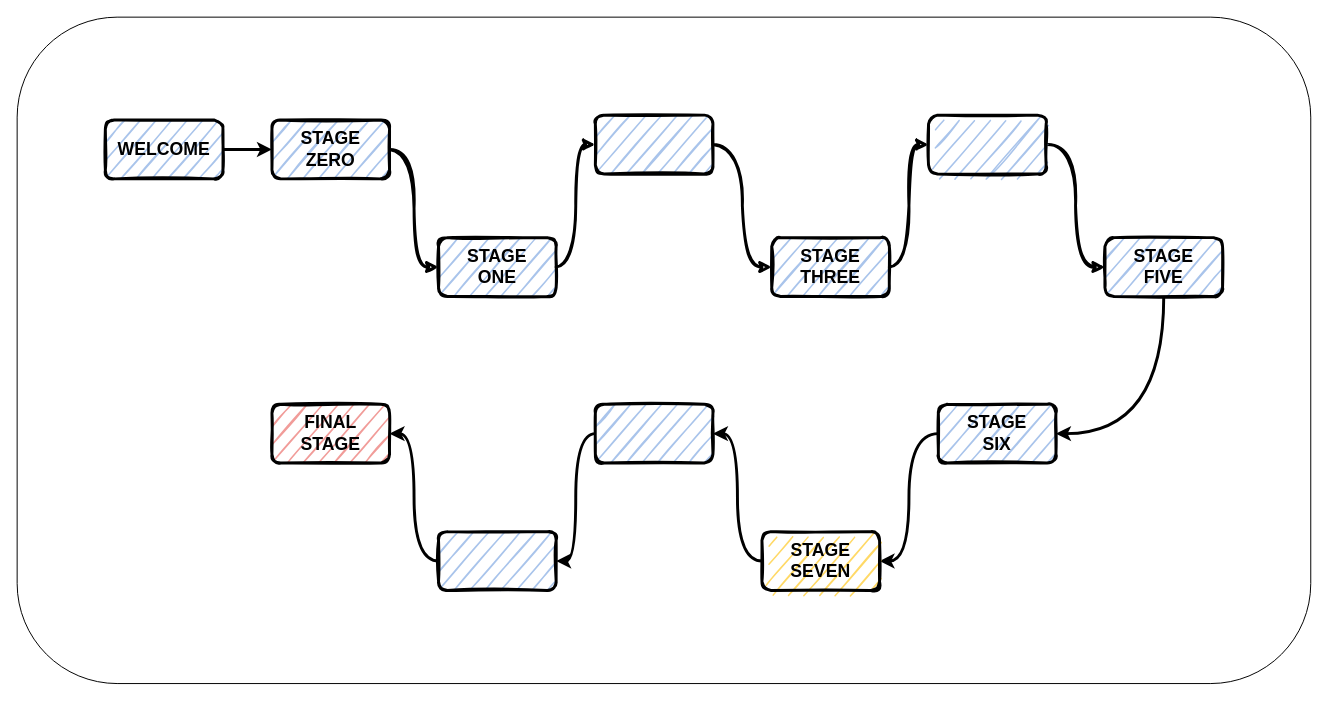
This 1328x701 diagram has some shape labels left out. Each missing label, with the centre of its shape:
"STAGE EIGHT" goes at point (653, 433).
"STAGE FOUR" goes at point (987, 144).
"STAGE NINE" goes at point (497, 560).
"STAGE TWO" goes at point (653, 144).
